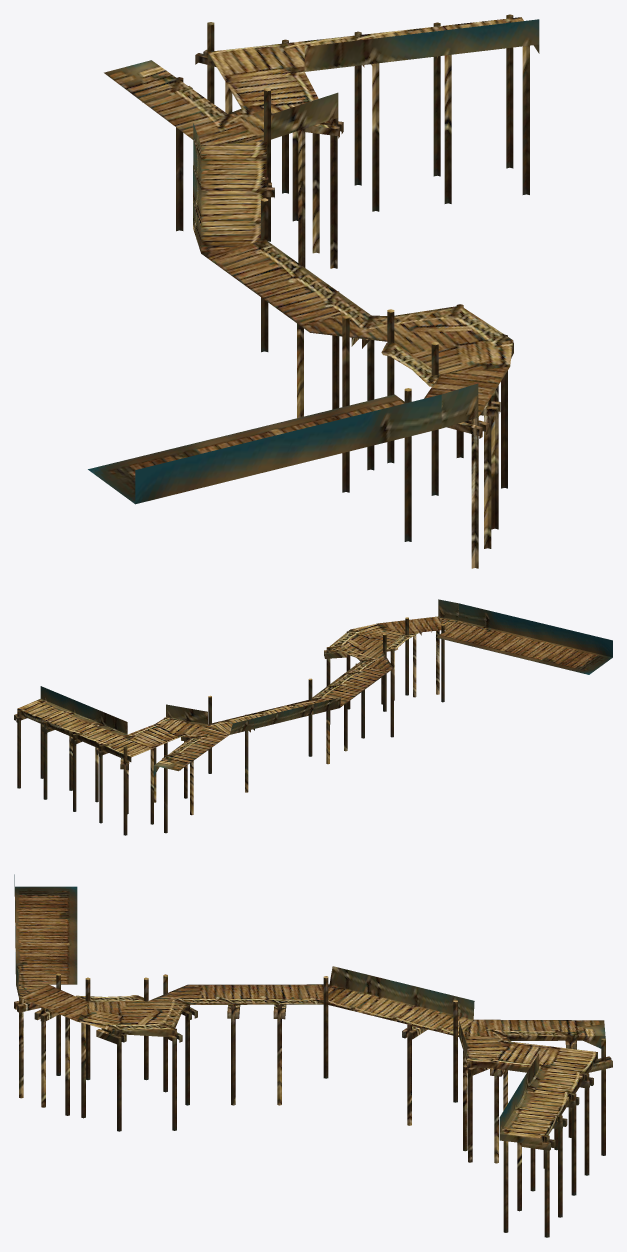
Rendered from T_A_Ferry_02.fbx.
The picture shows the model from 3 angles, top to bottom: view 1: azimuth 30°, elevation 25°; view 2: azimuth 150°, elevation 25°; view 3: azimuth 270°, elevation 25°; orthographic projection. The views are drawn at different scales.
Parts seen in each view (by area): view 1: T_A_Ferry_02; view 2: T_A_Ferry_02; view 3: T_A_Ferry_02.
Boxes of the visible parts, x1,y1,x2,y2 form: T_A_Ferry_02: (88, 14, 539, 568); T_A_Ferry_02: (14, 599, 612, 835); T_A_Ferry_02: (14, 874, 612, 1237).
Bounding box in the file's own units: 21.78 × 5.46 × 21.85.
